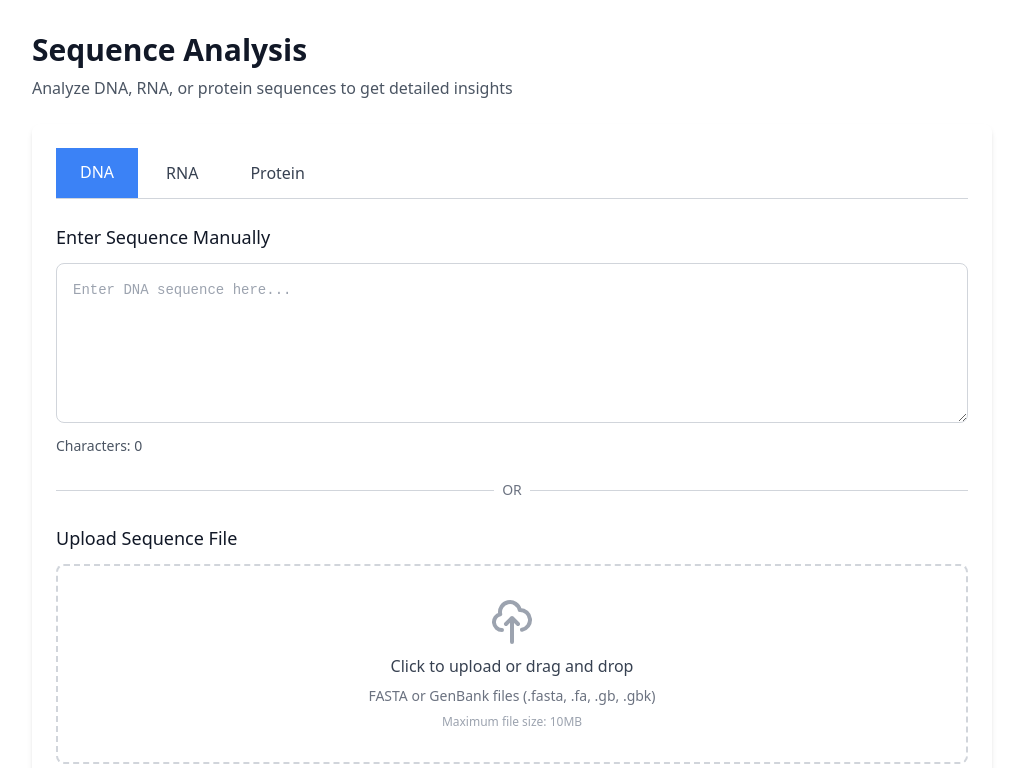
Test: Sequence Analysis Integration › should switch between sequence types
Expected: the text box with placeholder "Enter DNA sequence here..." is shown, [56,263,968,423]
Note: Click RNA tab
Click the button "RNA" at (182, 173), box [142,148,222,198]
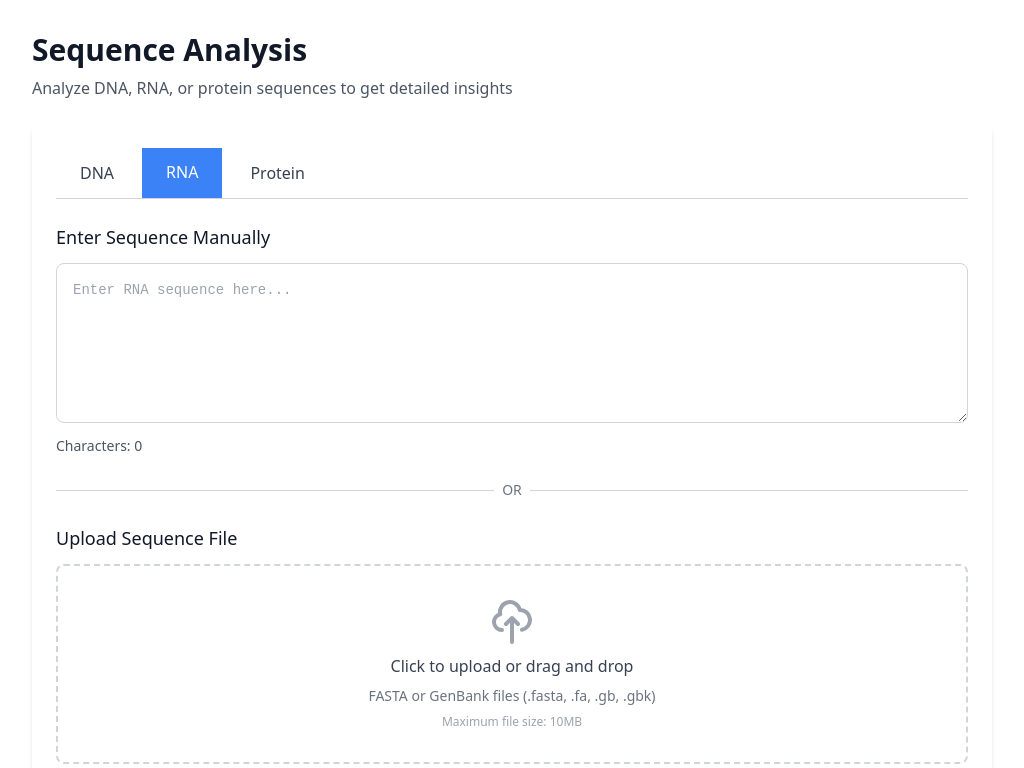
Expected: the text box with placeholder "Enter RNA sequence here..." is shown, [56,263,968,423]
Note: Click Protein tab
Click the button "Protein" at (278, 173), box [226,148,329,198]
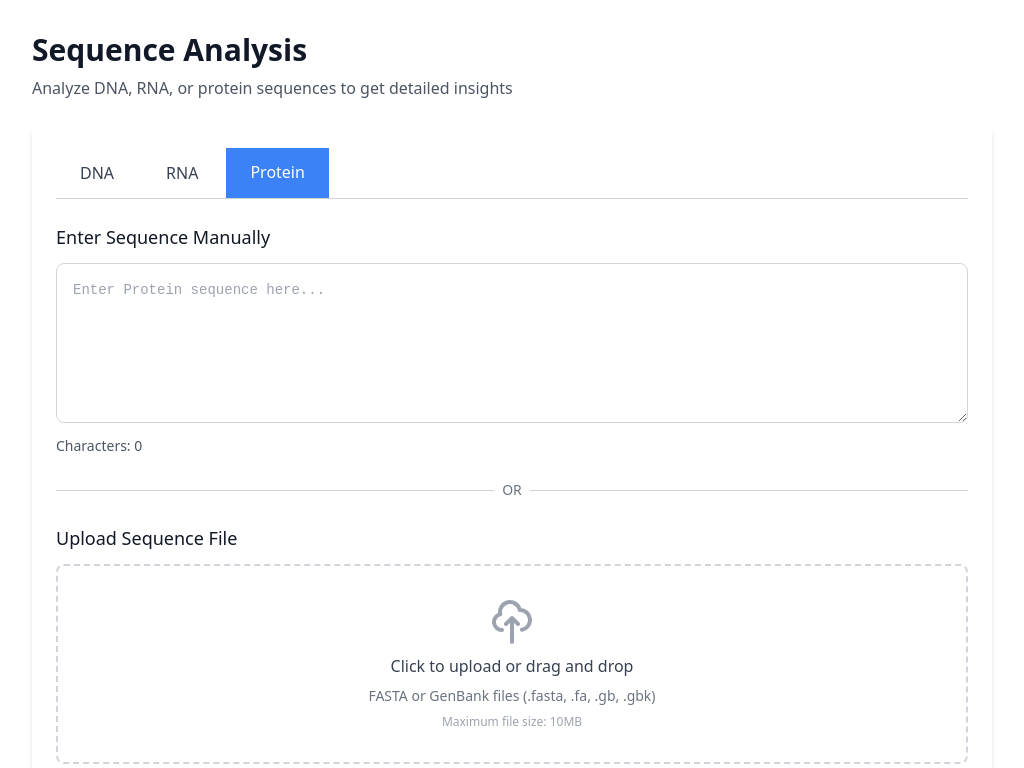
Expected: the text box with placeholder "Enter Protein sequence here..." is shown, [56,263,968,423]
